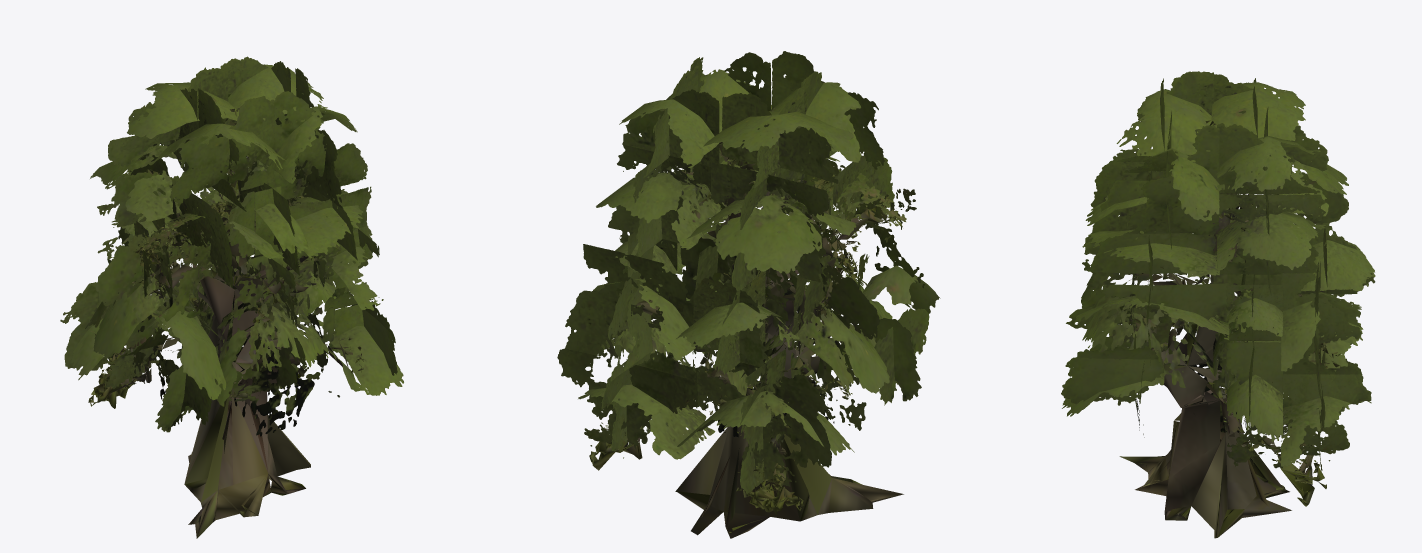
Rendered from tree-1537-mid.glb.
The picture shows the model from 3 angles, left to right: view 1: azimuth 30°, elevation 25°; view 2: azimuth 150°, elevation 25°; view 3: azimuth 270°, elevation 25°; orthographic projection. The views are drawn at different scales.
Parts seen in each view (by area): view 1: Foliage, Wood; view 2: Foliage, Wood; view 3: Foliage, Wood.
Boxes of the visible parts, box(x1,y1,x2,y2) form: Foliage: box(60, 56, 403, 436); Wood: box(88, 106, 363, 538); Foliage: box(557, 51, 940, 494); Wood: box(589, 107, 903, 538); Foliage: box(1061, 71, 1375, 477); Wood: box(1119, 113, 1340, 538).
Bounding box in the file's own units: 10.41 × 12.82 × 9.94.
2 materials, 2 textured.
